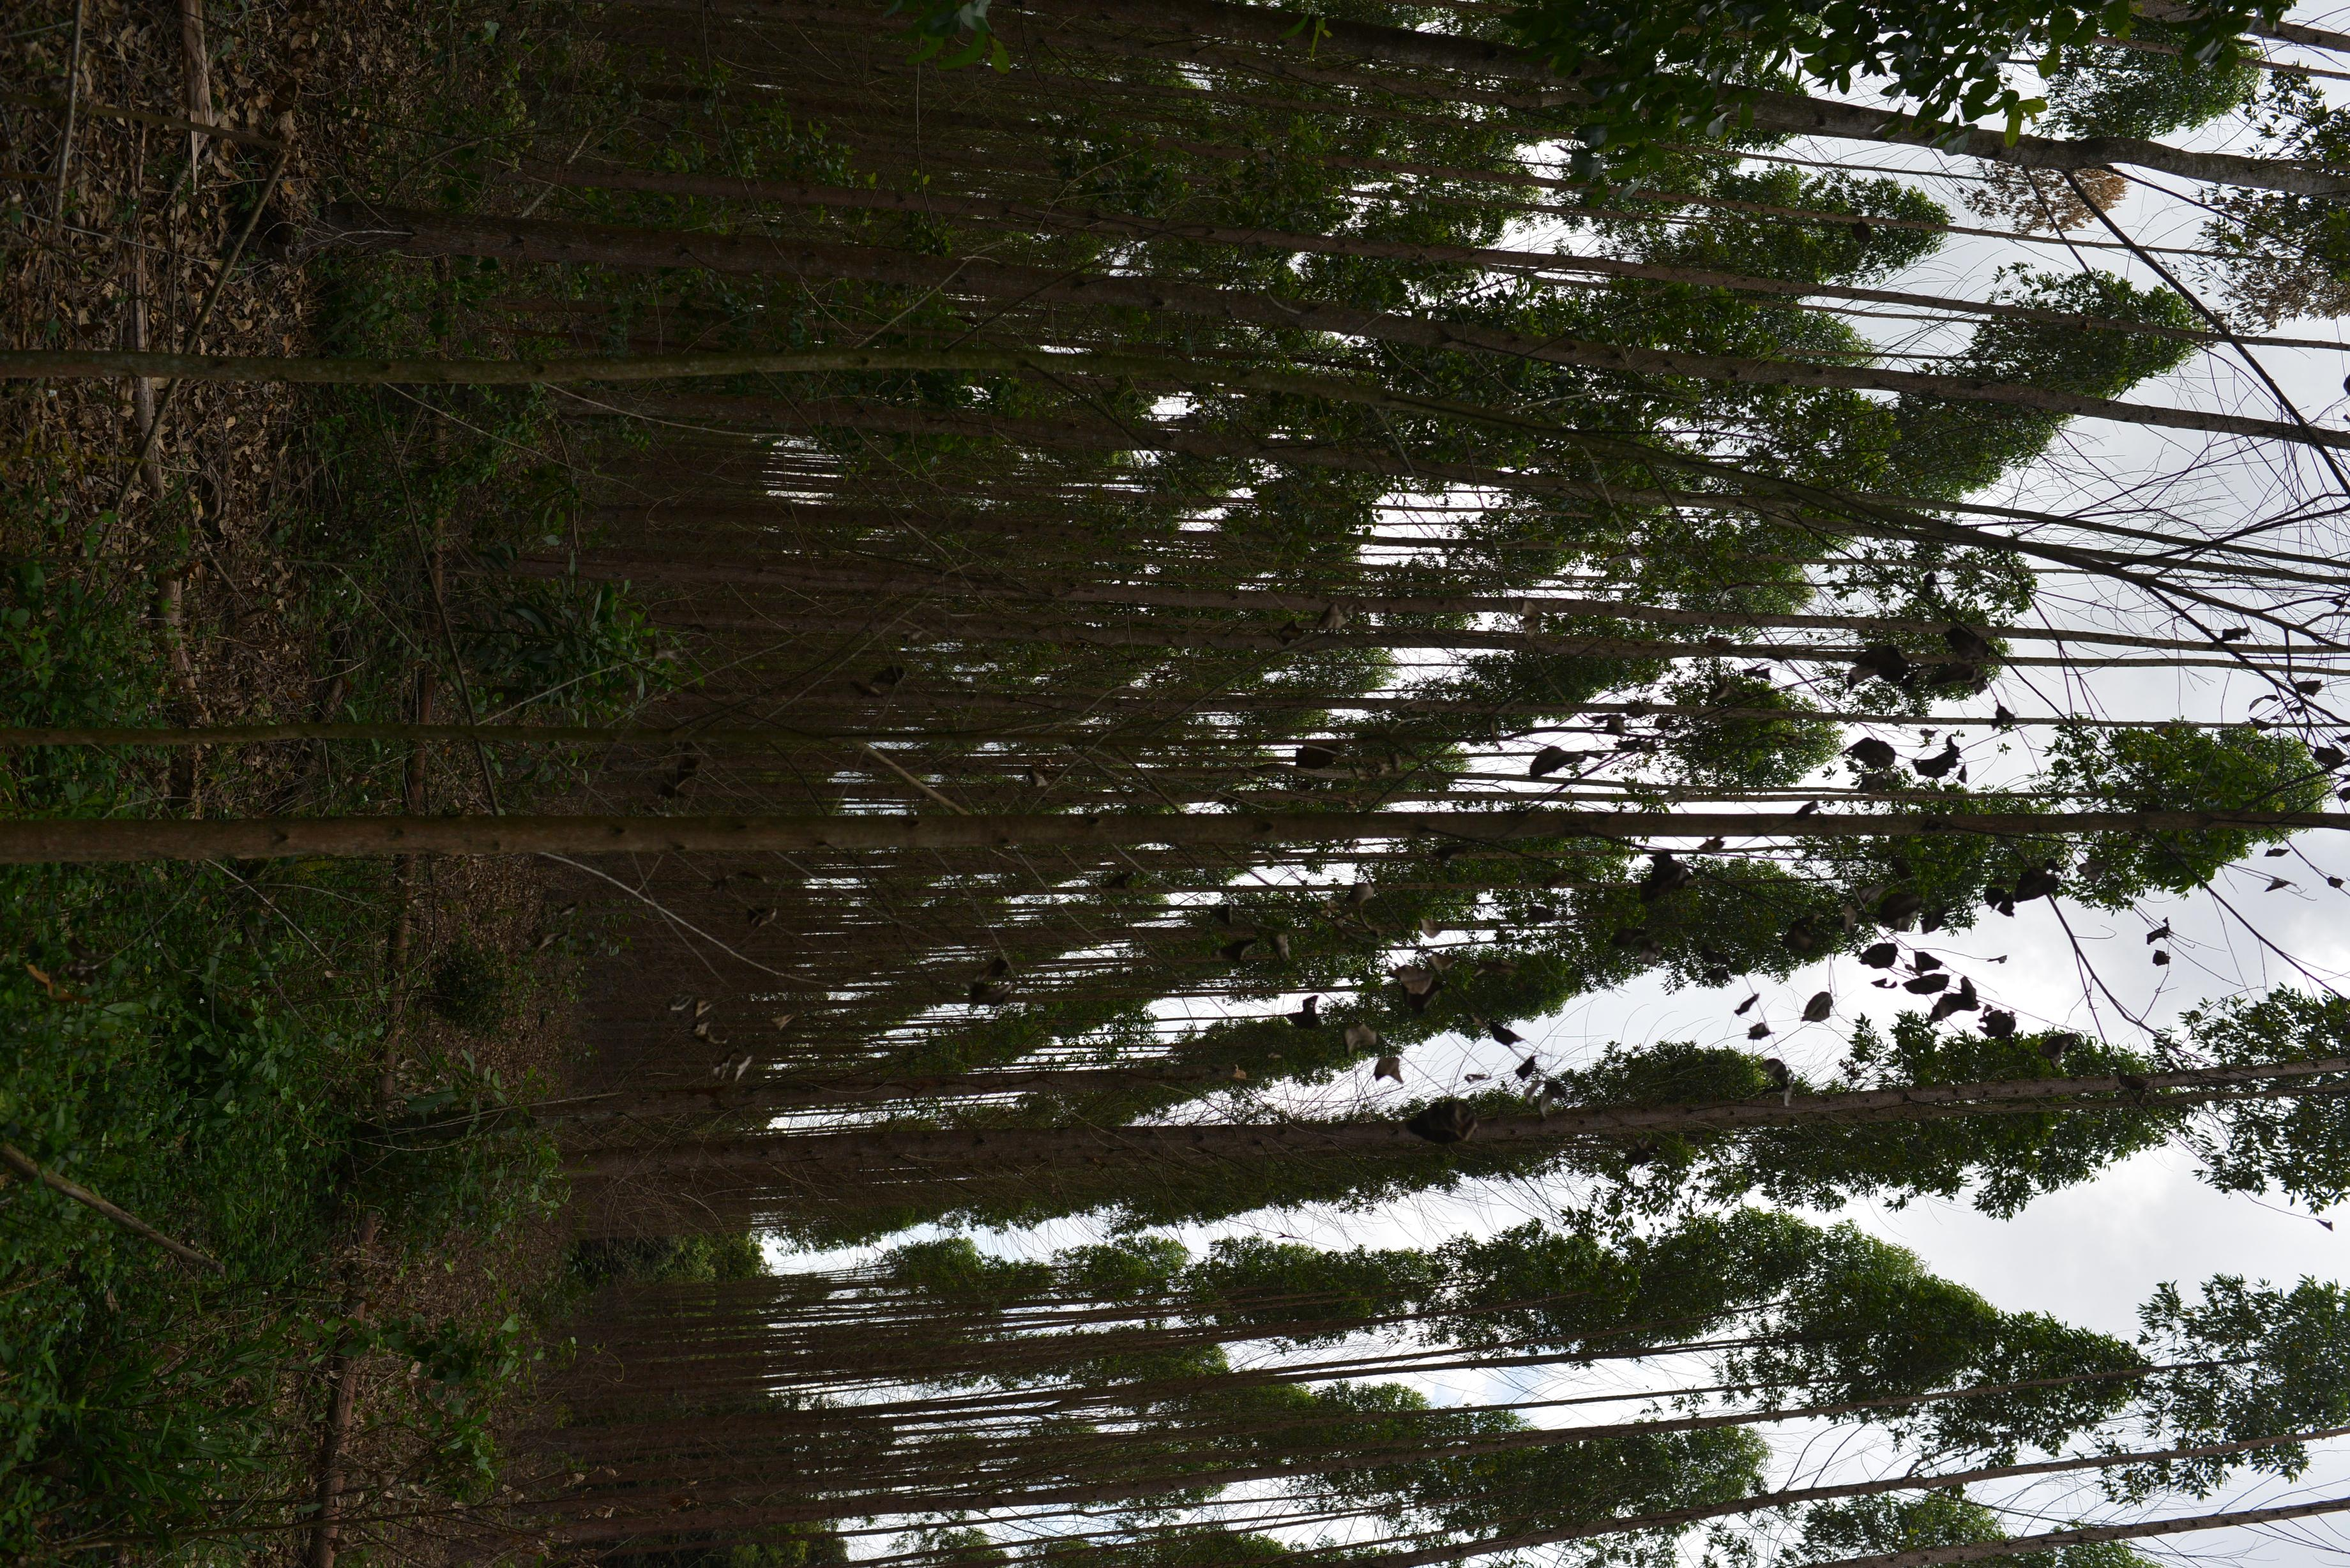Wither Tree Parts: (630, 633, 2350, 1038)
